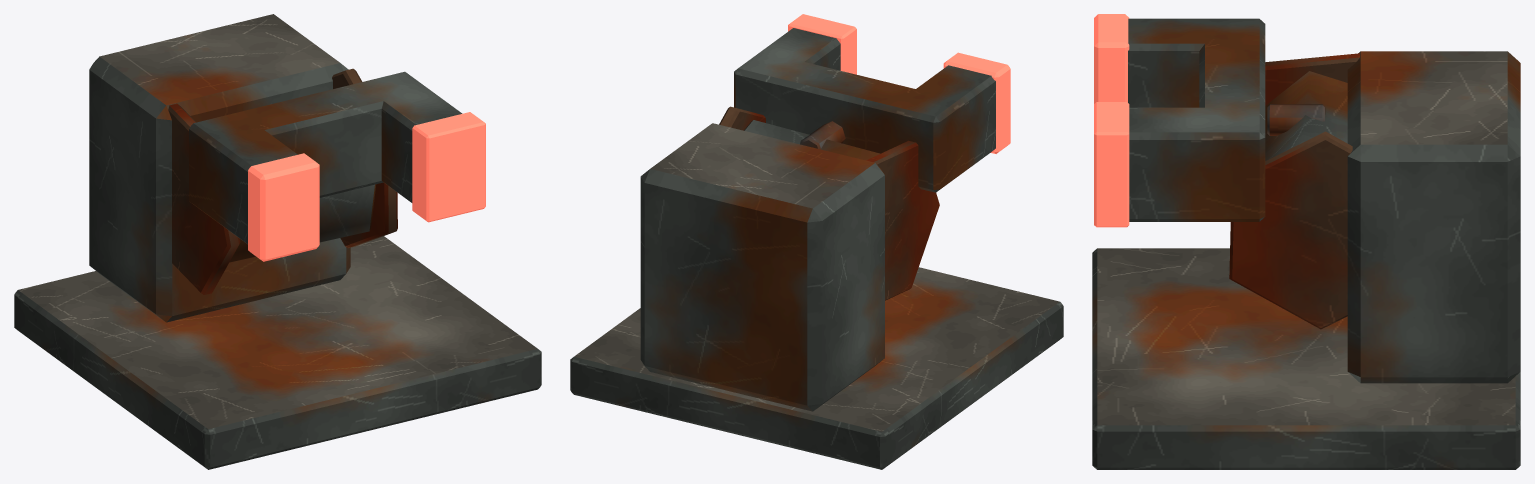
File: R4X_MagneticGrapple_LOD1.glb
3 views of the same model, side by side, from view 1: azimuth 30°, elevation 25°; view 2: azimuth 150°, elevation 25°; view 3: azimuth 270°, elevation 25° (orthographic). The views are drawn at different scales.
Visible parts, largest first — view 1: R4X_MagneticGrapple_LOD1; view 2: R4X_MagneticGrapple_LOD1; view 3: R4X_MagneticGrapple_LOD1.
Part boxes in pixels (bbox=[...]): R4X_MagneticGrapple_LOD1: bbox=[14, 14, 541, 469]; R4X_MagneticGrapple_LOD1: bbox=[570, 14, 1063, 469]; R4X_MagneticGrapple_LOD1: bbox=[1092, 14, 1520, 469].
Size of the model in its own units: 0.52 by 0.414 by 0.52.
5 materials, 4 textured.
